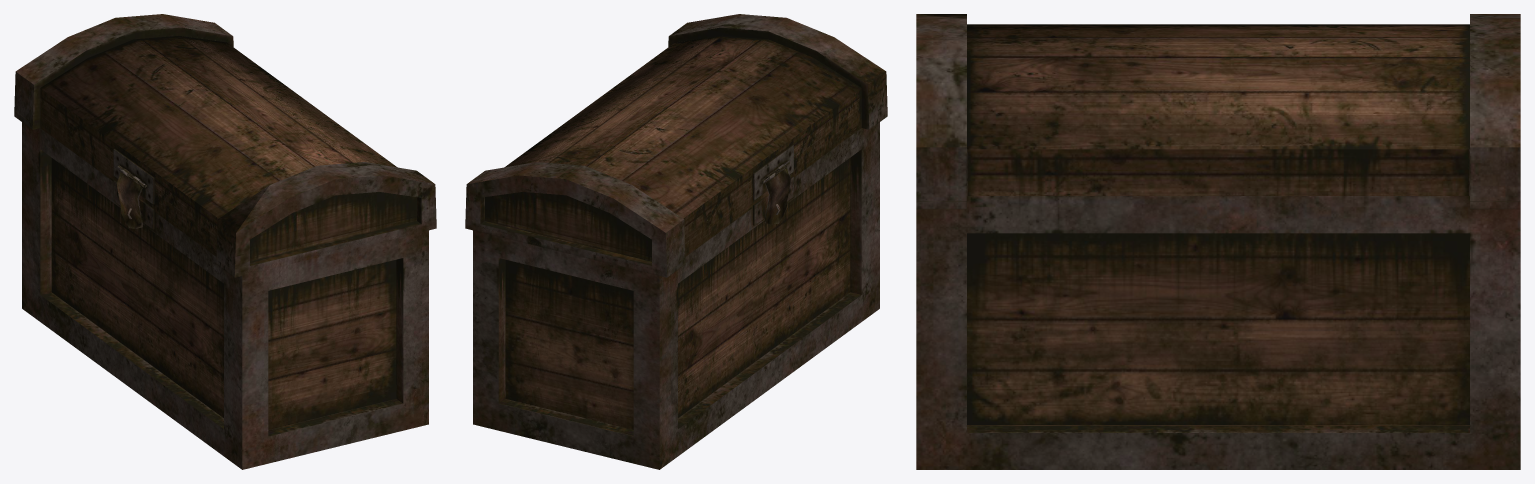
Rendered from chestStanzapuzzle.fbx.
3 views of the same model, side by side, from view 1: azimuth 30°, elevation 25°; view 2: azimuth 150°, elevation 25°; view 3: azimuth 270°, elevation 25° (orthographic). The views are drawn at different scales.
Parts seen in each view (by area): view 1: Chest.001, Chest; view 2: Chest.001, Chest; view 3: Chest.001, Chest.
Part boxes in pixels (bbox=[...]): Chest.001: bbox=[15, 111, 428, 469]; Chest: bbox=[14, 14, 436, 277]; Chest.001: bbox=[473, 111, 886, 469]; Chest: bbox=[465, 14, 887, 277]; Chest.001: bbox=[916, 196, 1520, 469]; Chest: bbox=[916, 14, 1520, 209].
Size of the model in its own units: 52.14 by 65.98 by 98.43.
